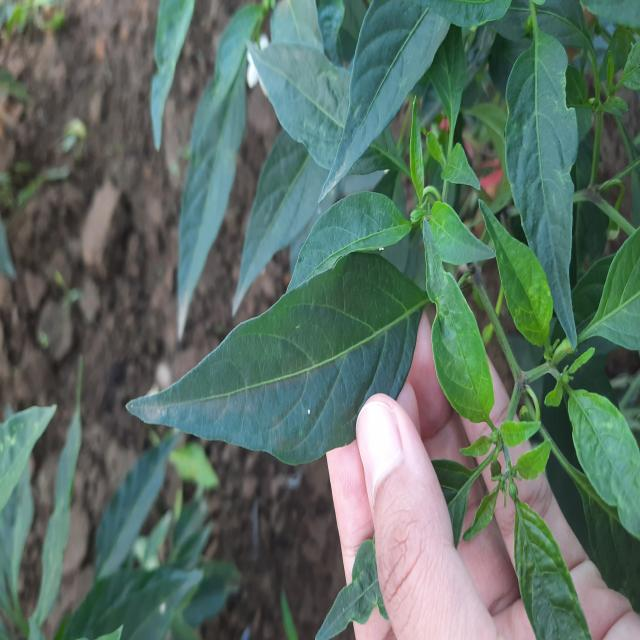sehat: (118, 247, 426, 473)
